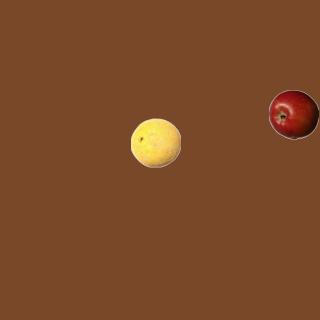Apple Braeburn: (268, 89, 318, 139)
Cantaloupe 1: (130, 117, 180, 167)
